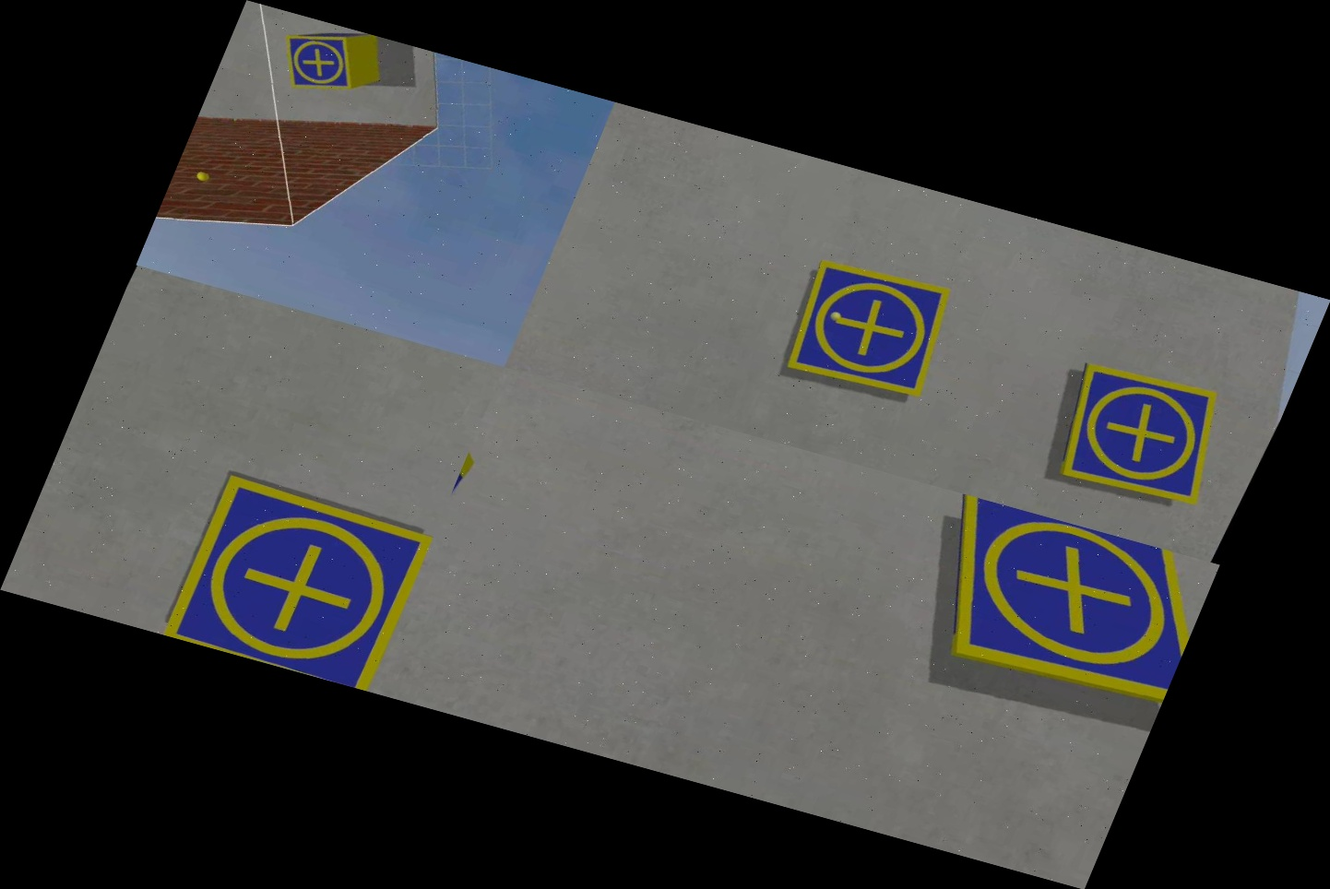small_base: (884, 491, 1218, 724), (148, 465, 437, 691), (1031, 352, 1251, 524), (770, 249, 973, 415), (267, 20, 374, 104)
